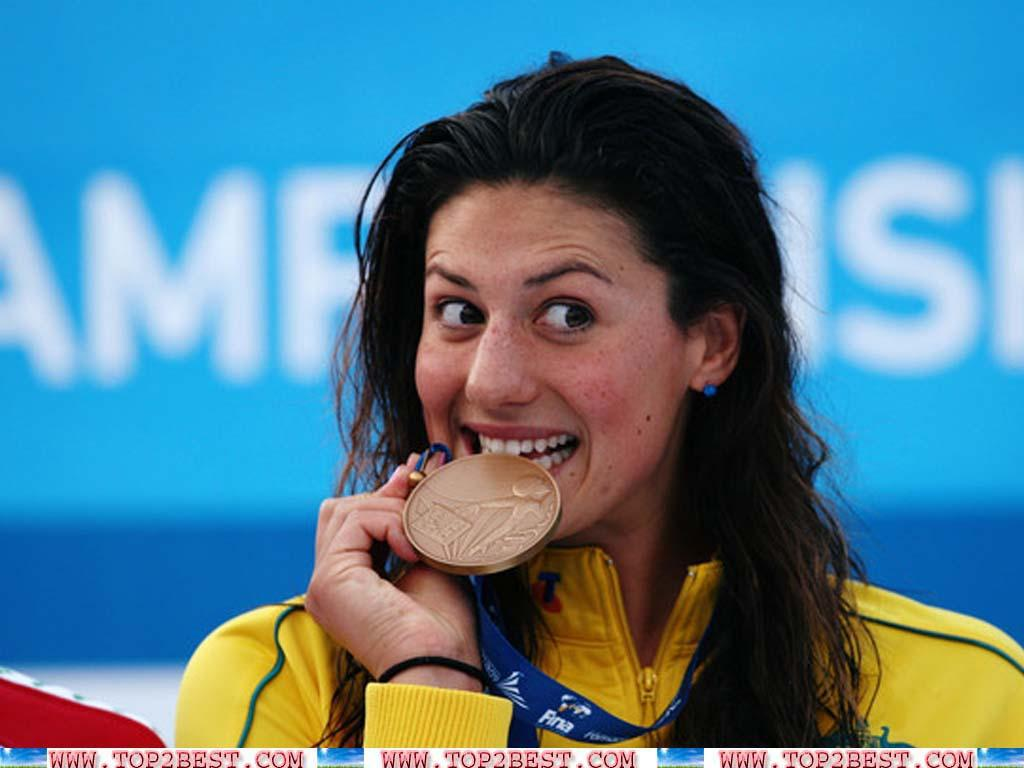face: (413, 209, 683, 553)
